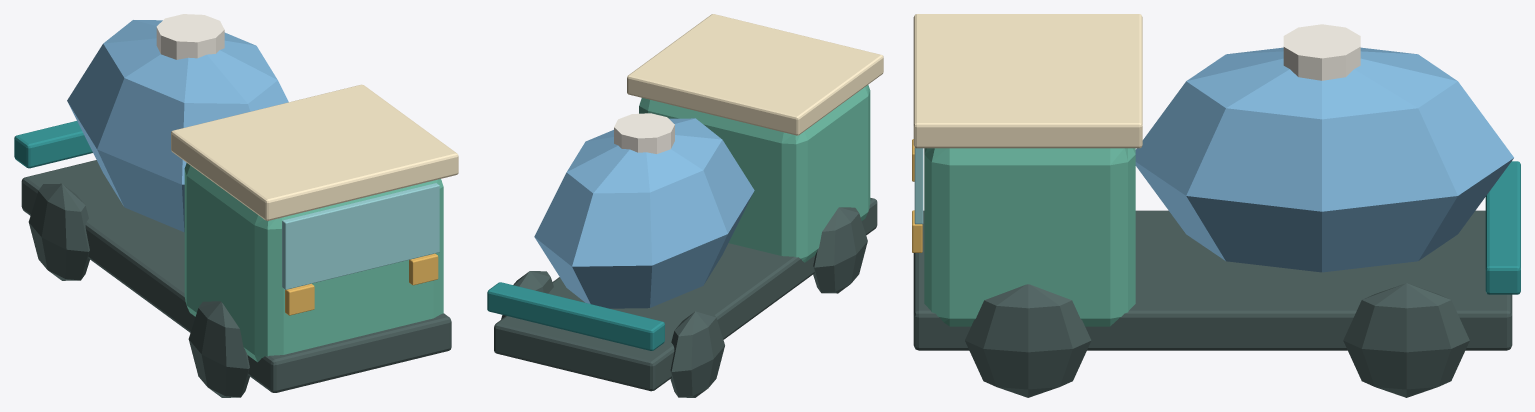
Rendered from tanker.glb.
3 renders of one model, left to right at view 1: azimuth 30°, elevation 25°; view 2: azimuth 150°, elevation 25°; view 3: azimuth 270°, elevation 25°, orthographic. The views are drawn at different scales.
Parts seen in each view (by area): view 1: tanker; view 2: tanker; view 3: tanker.
Part boxes in pixels (x1,y1,x2,y2): tanker: (14,14,458,397); tanker: (487,14,883,397); tanker: (912,14,1520,397).
Size of the model in its own units: 1.76 by 1.9 by 3.46.
